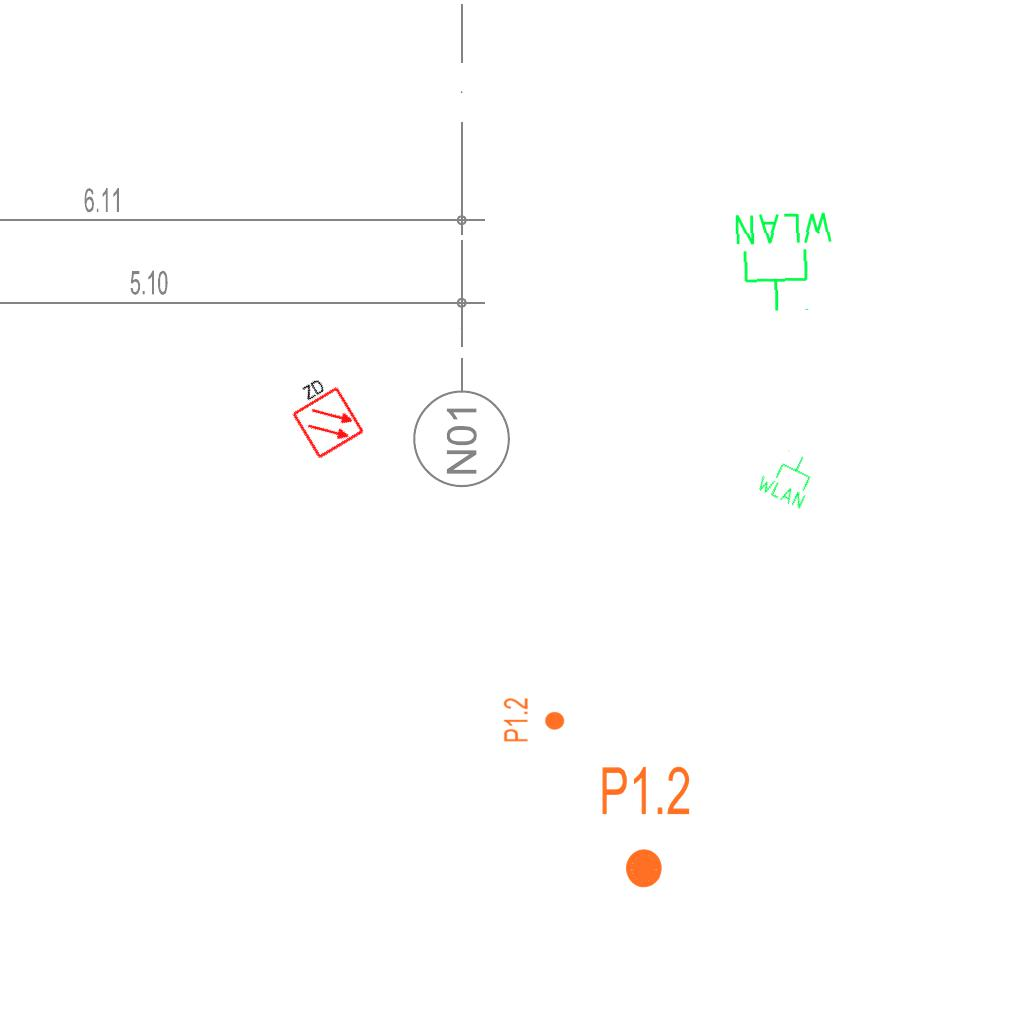Downlight_LED_Einbauleuchten_Flur: (599, 763, 692, 891), (502, 697, 566, 743)
WLAN: (730, 207, 840, 316), (753, 442, 823, 512)
ZD_Melder_in_Zwischendecke_mit_Revisionsoeffnung_mind_40_x_40_cm: (279, 368, 366, 462)
